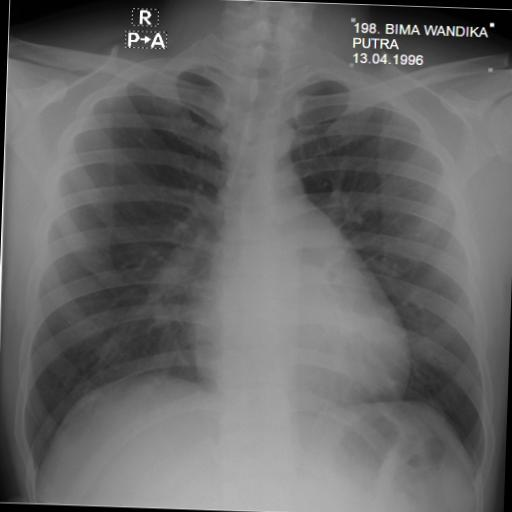normal: (16, 28, 510, 498)
